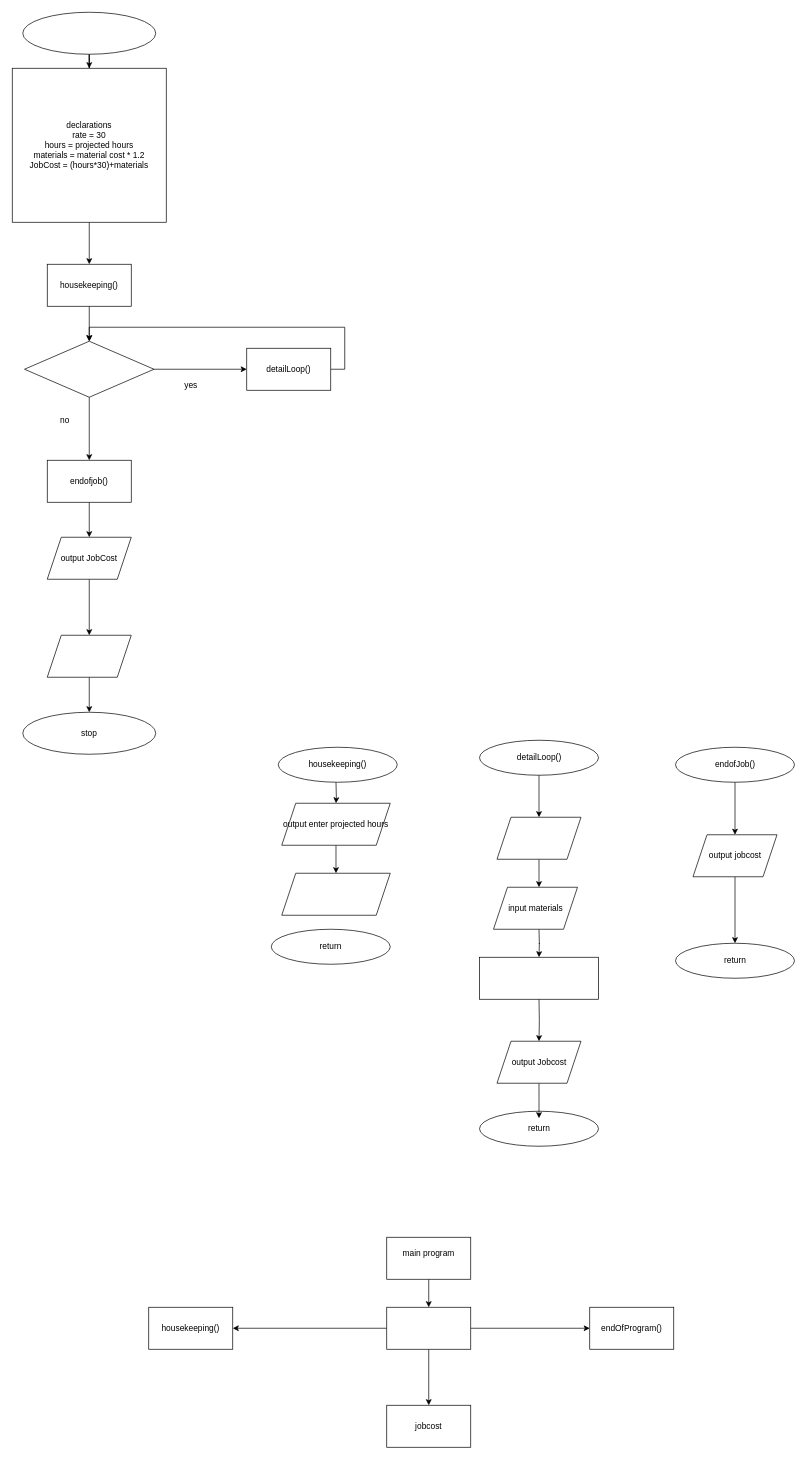
The diagram is 807 pixels wide and 1460 high, and some of its shapes have lost their labels. Each missing label, with the centre of its shape:
deailLoop(): point 428,1328
display End of Job: point 89,656
hours not 0: point 89,369
input hours: point 538,838
jobcost = (hours*30)+materials: point 538,978
output enter wholesale cost materials: point 335,894
start: point 89,33
